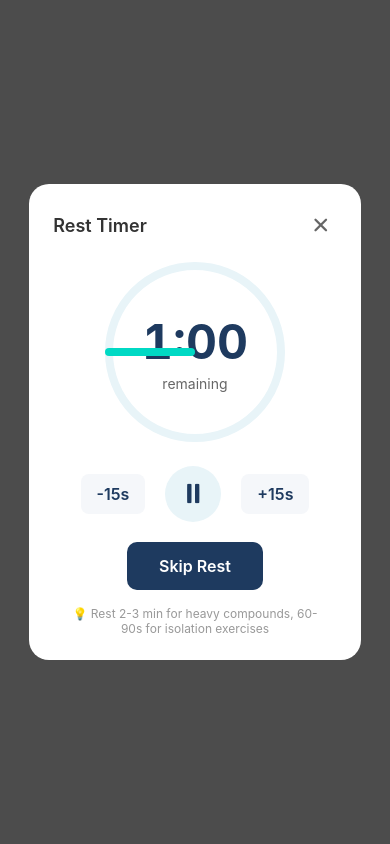
Test case: controls › -15s button decreases the displayed time by 15 seconds
Click the text "-15s" at (113, 494), box [96, 484, 129, 504]
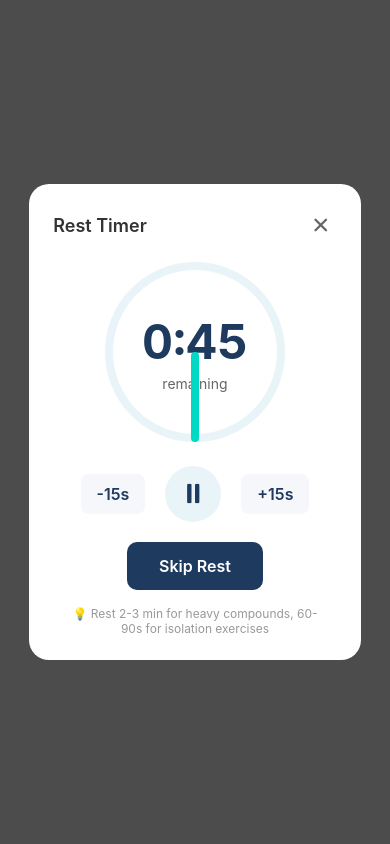
Check: the text "0:45" is shown, box [142, 312, 248, 371]
